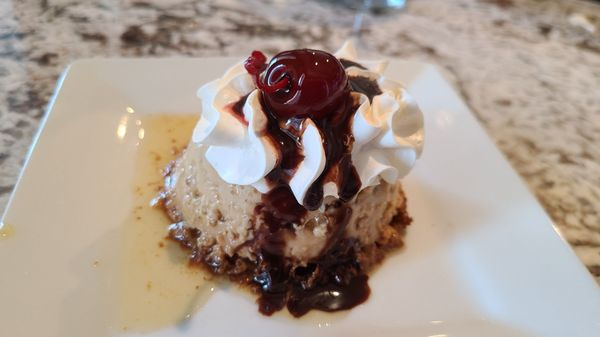curry: (16, 1, 600, 334)
sushi: (156, 47, 423, 317)
